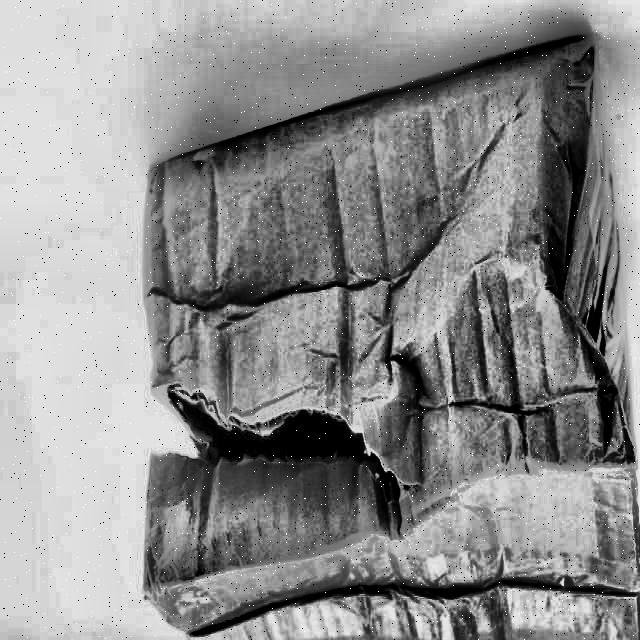box: (136, 28, 640, 640)
hole: (156, 356, 420, 518)
